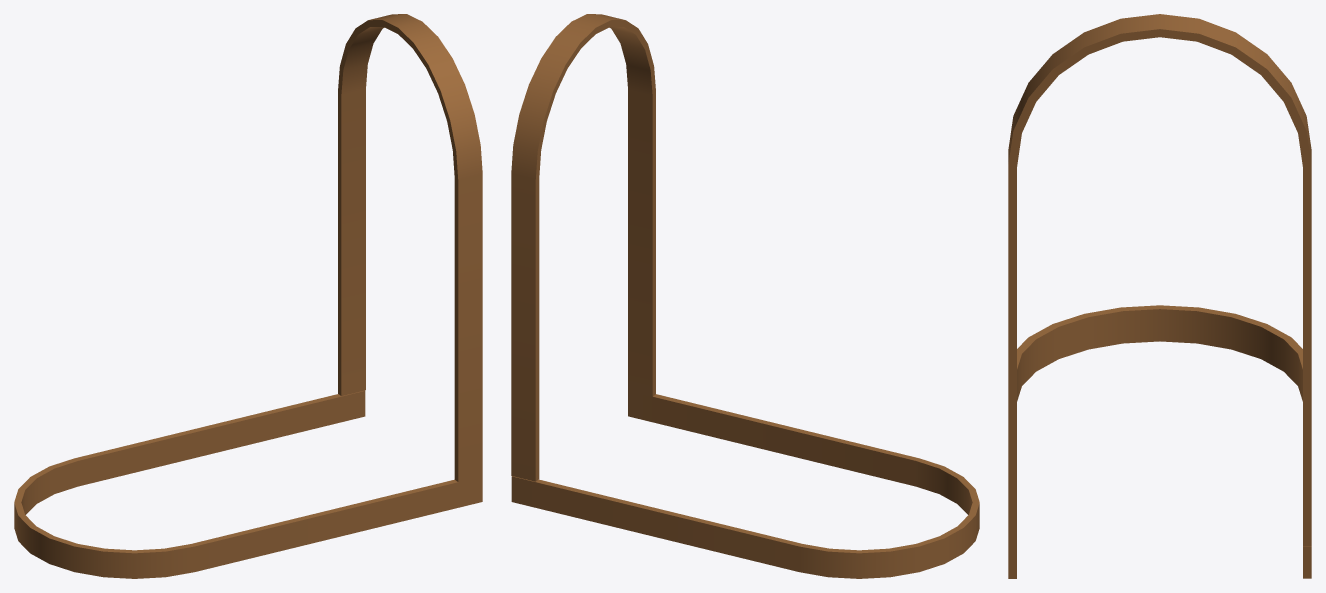
File: table3.obj
3 renders of one model, left to right at view 1: azimuth 30°, elevation 25°; view 2: azimuth 150°, elevation 25°; view 3: azimuth 270°, elevation 25°, orthographic. The views are drawn at different scales.
Visible parts, largest first — view 1: Mesh2 Group2 Model, Mesh1 Group1 Model; view 2: Mesh2 Group2 Model, Mesh1 Group1 Model; view 3: Mesh2 Group2 Model, Mesh1 Group1 Model.
Boxes of the visible parts, x1,y1,x2,y2 form: Mesh2 Group2 Model: [338, 14, 482, 481]; Mesh1 Group1 Model: [14, 390, 482, 578]; Mesh2 Group2 Model: [511, 14, 655, 481]; Mesh1 Group1 Model: [511, 390, 979, 578]; Mesh2 Group2 Model: [1008, 14, 1311, 546]; Mesh1 Group1 Model: [1008, 305, 1311, 578].
Bounding box in the file's own units: 15.99 × 16.99 × 8.5.
